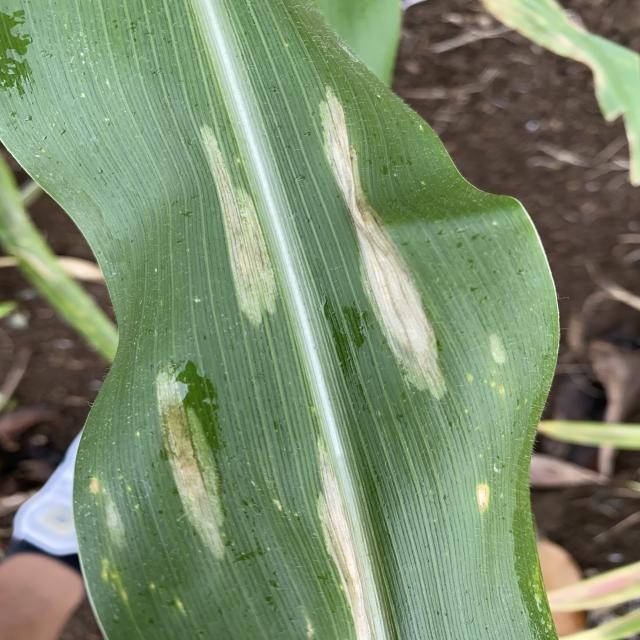Corn_Leaf_Blight: (66, 2, 565, 640)
